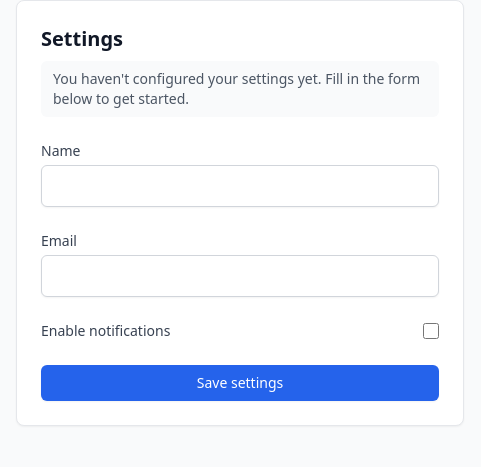
Test case: SettingsForm › validates email format on blur
Type "not-an-email" into the field labelled "Email".
click(240, 276); type("not-an-email")  # box [41, 255, 439, 297]
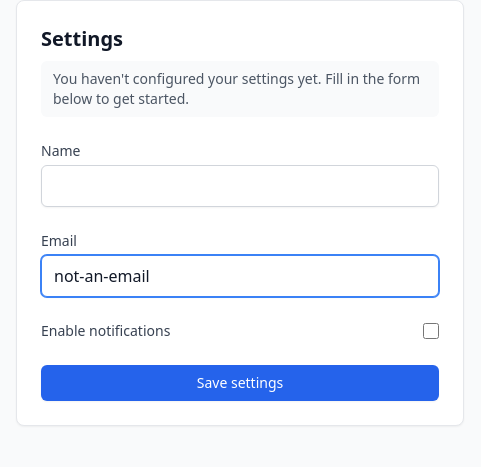
Press Tab
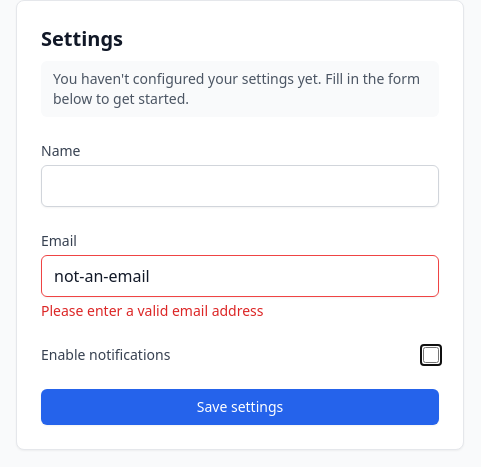
Expected: the message reads "Please enter a valid email address", [41, 301, 264, 320]
